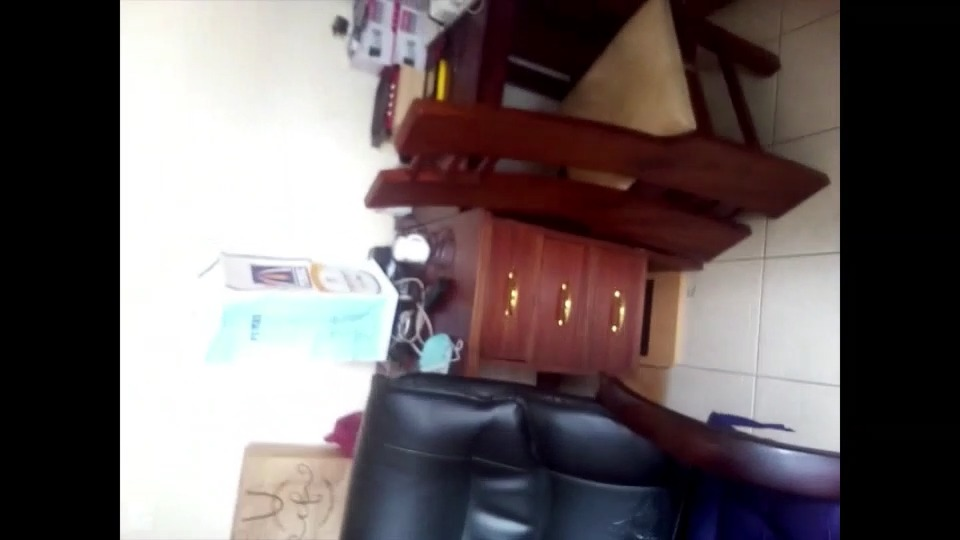wheat_flour_blue_label: (207, 251, 390, 371)
